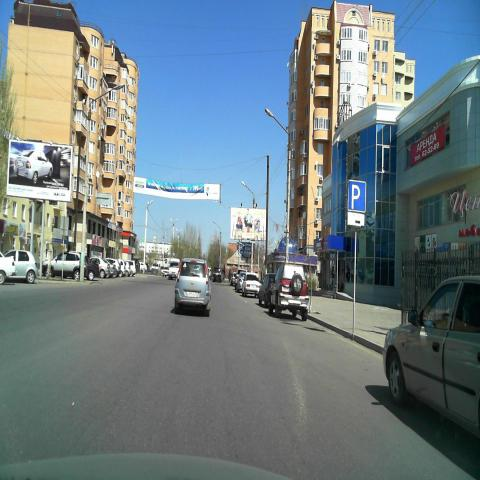6_4: (348, 179, 366, 213)
8_6_2: (348, 212, 364, 226)
